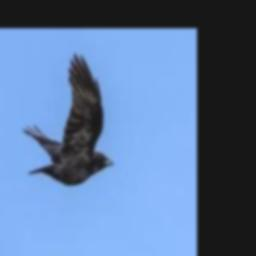Crow: (23, 54, 115, 185)
